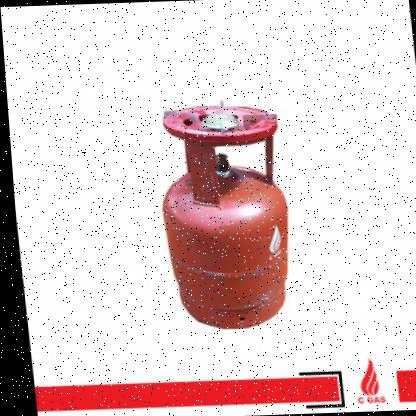gas-tank: (141, 89, 310, 344)
